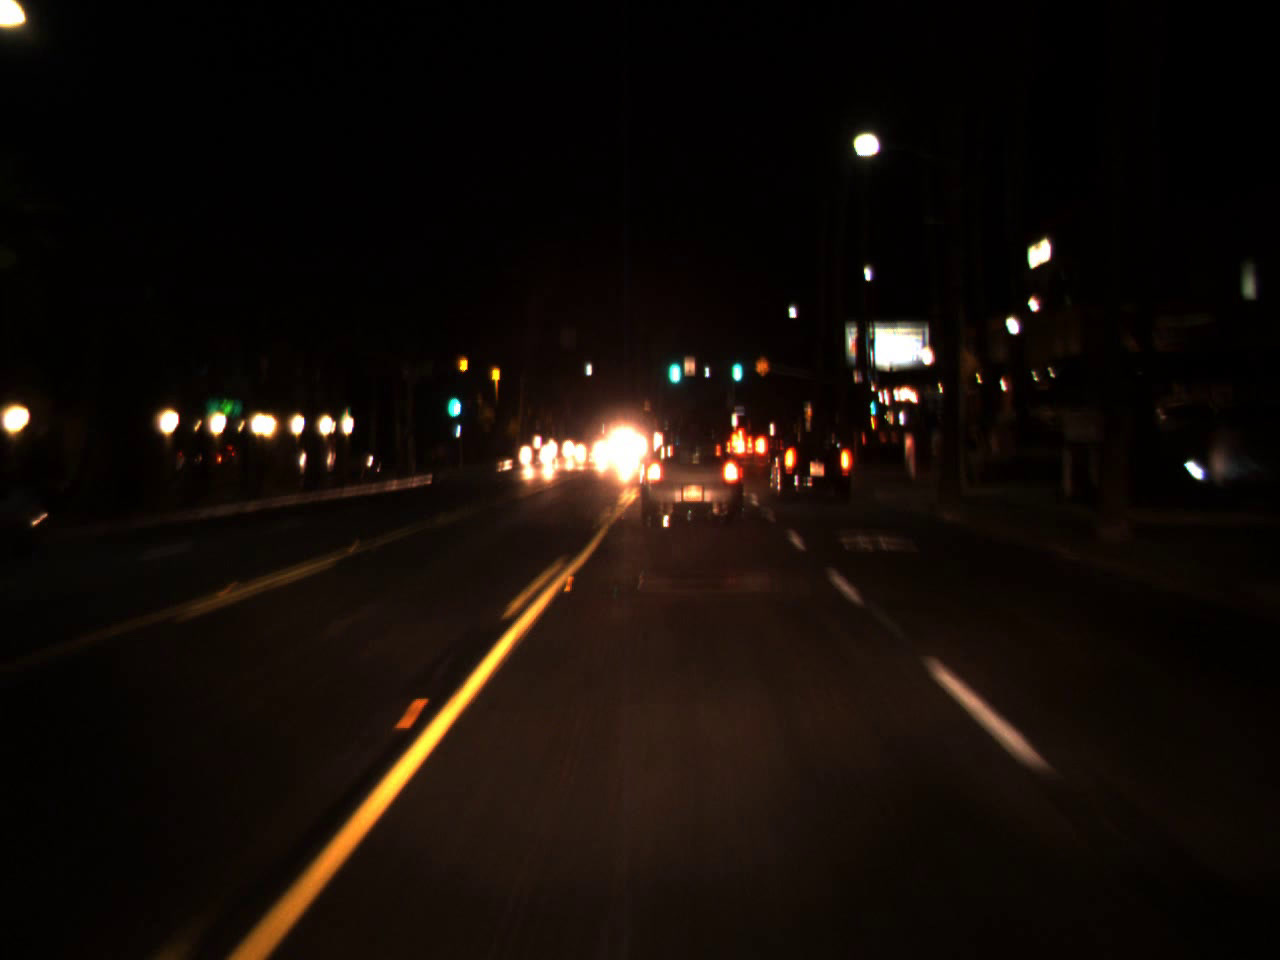go: (665, 339, 683, 390), (728, 338, 744, 389), (444, 373, 460, 424)
